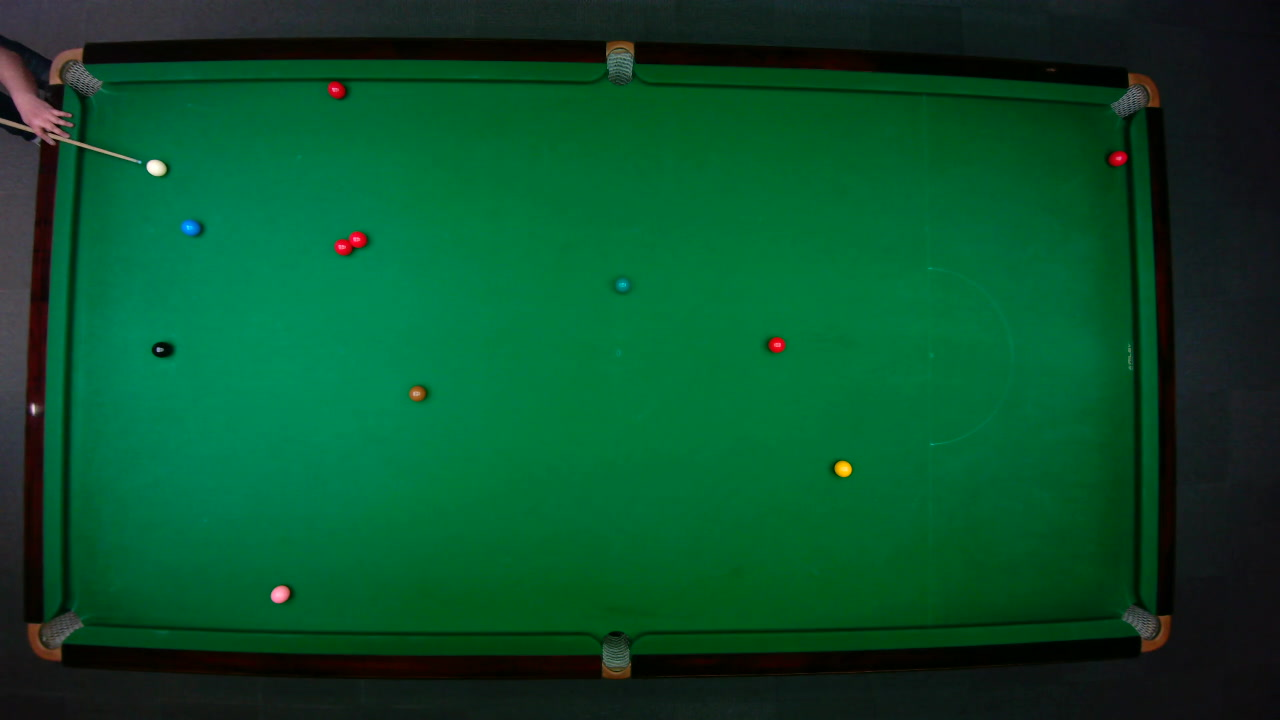bag: (25, 609, 84, 660), (47, 47, 103, 97), (1119, 603, 1171, 652), (1108, 72, 1160, 118), (601, 629, 630, 679), (605, 39, 633, 86)
black: (150, 340, 172, 358)
blue: (179, 218, 201, 236)
brown: (408, 384, 426, 402)
cue: (0, 116, 142, 166)
green: (613, 276, 630, 293)
pink: (269, 583, 291, 604)
red: (326, 79, 346, 99), (1106, 149, 1129, 166), (332, 237, 353, 255), (347, 230, 367, 248), (766, 336, 786, 353)
white: (144, 157, 167, 176)
yellow: (832, 459, 852, 477)
zone: (926, 266, 1013, 445)
